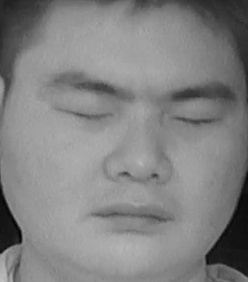blink: (58, 95, 121, 135), (171, 101, 225, 140)
mouth: (83, 190, 172, 242)
